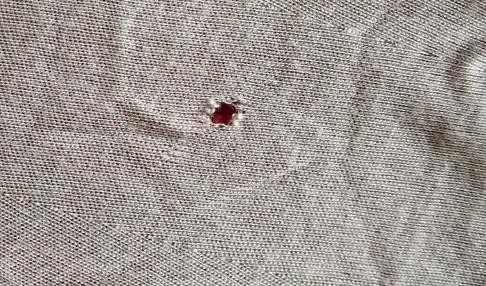hole: (200, 93, 251, 130)
